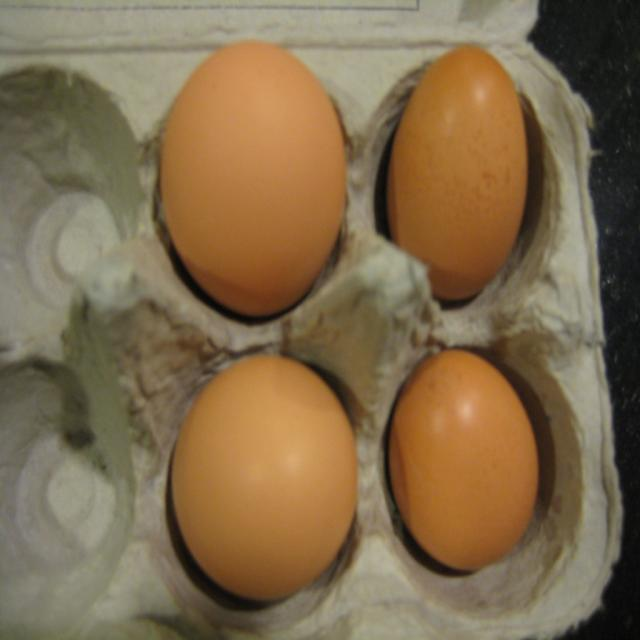Egg: (157, 39, 540, 604), (166, 350, 365, 613)
